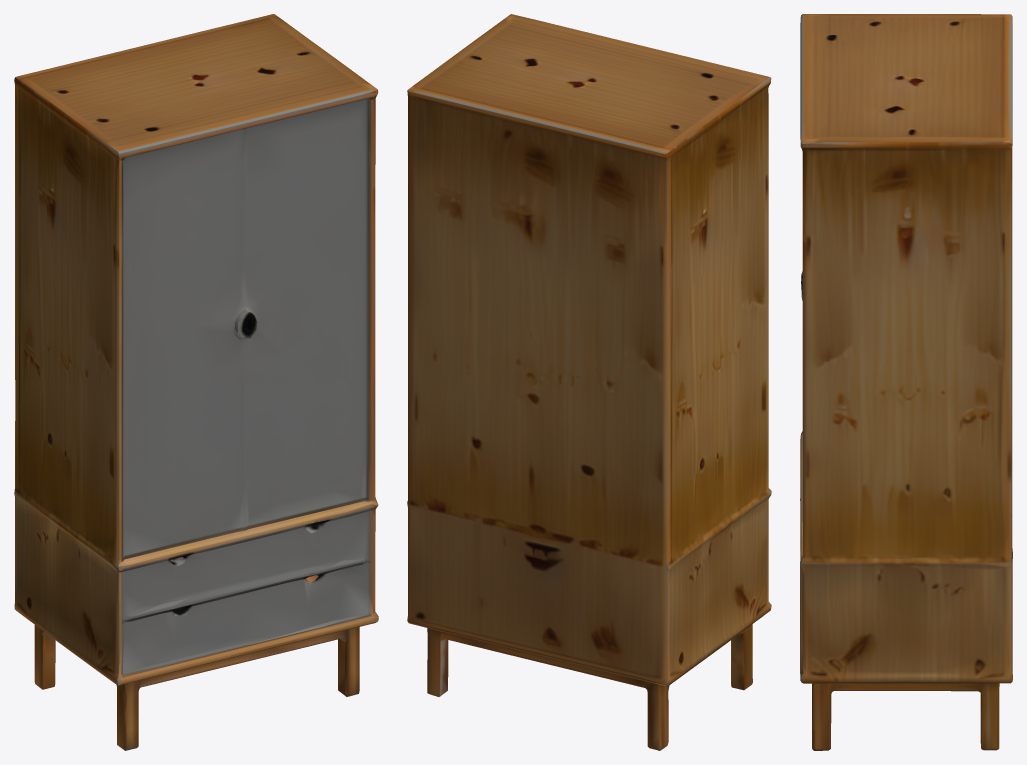
The model's file is Penderie2_3D_textured.glb.
3 renders of one model, left to right at view 1: azimuth 30°, elevation 25°; view 2: azimuth 150°, elevation 25°; view 3: azimuth 270°, elevation 25°, orthographic.
Parts seen in each view (by area): view 1: temp_mesh.ply; view 2: temp_mesh.ply; view 3: temp_mesh.ply.
Boxes of the visible parts, x1,y1,x2,y2 form: temp_mesh.ply: [14, 14, 378, 750]; temp_mesh.ply: [407, 14, 771, 750]; temp_mesh.ply: [800, 14, 1012, 750].
Size of the model in its own units: 0.8921 by 1.97 by 0.6186.
Materials: 1 (1 with a texture image).
